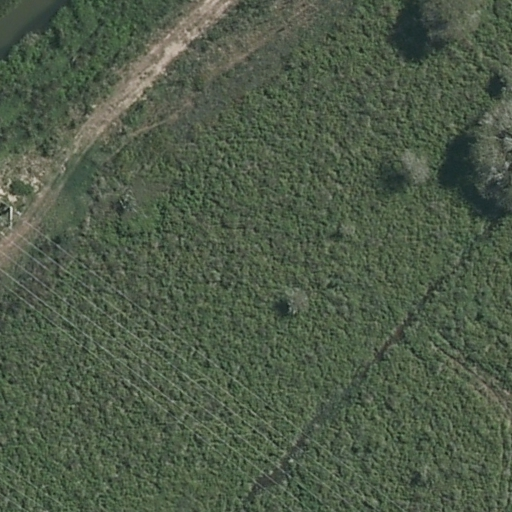DT: (6, 205, 17, 229)
